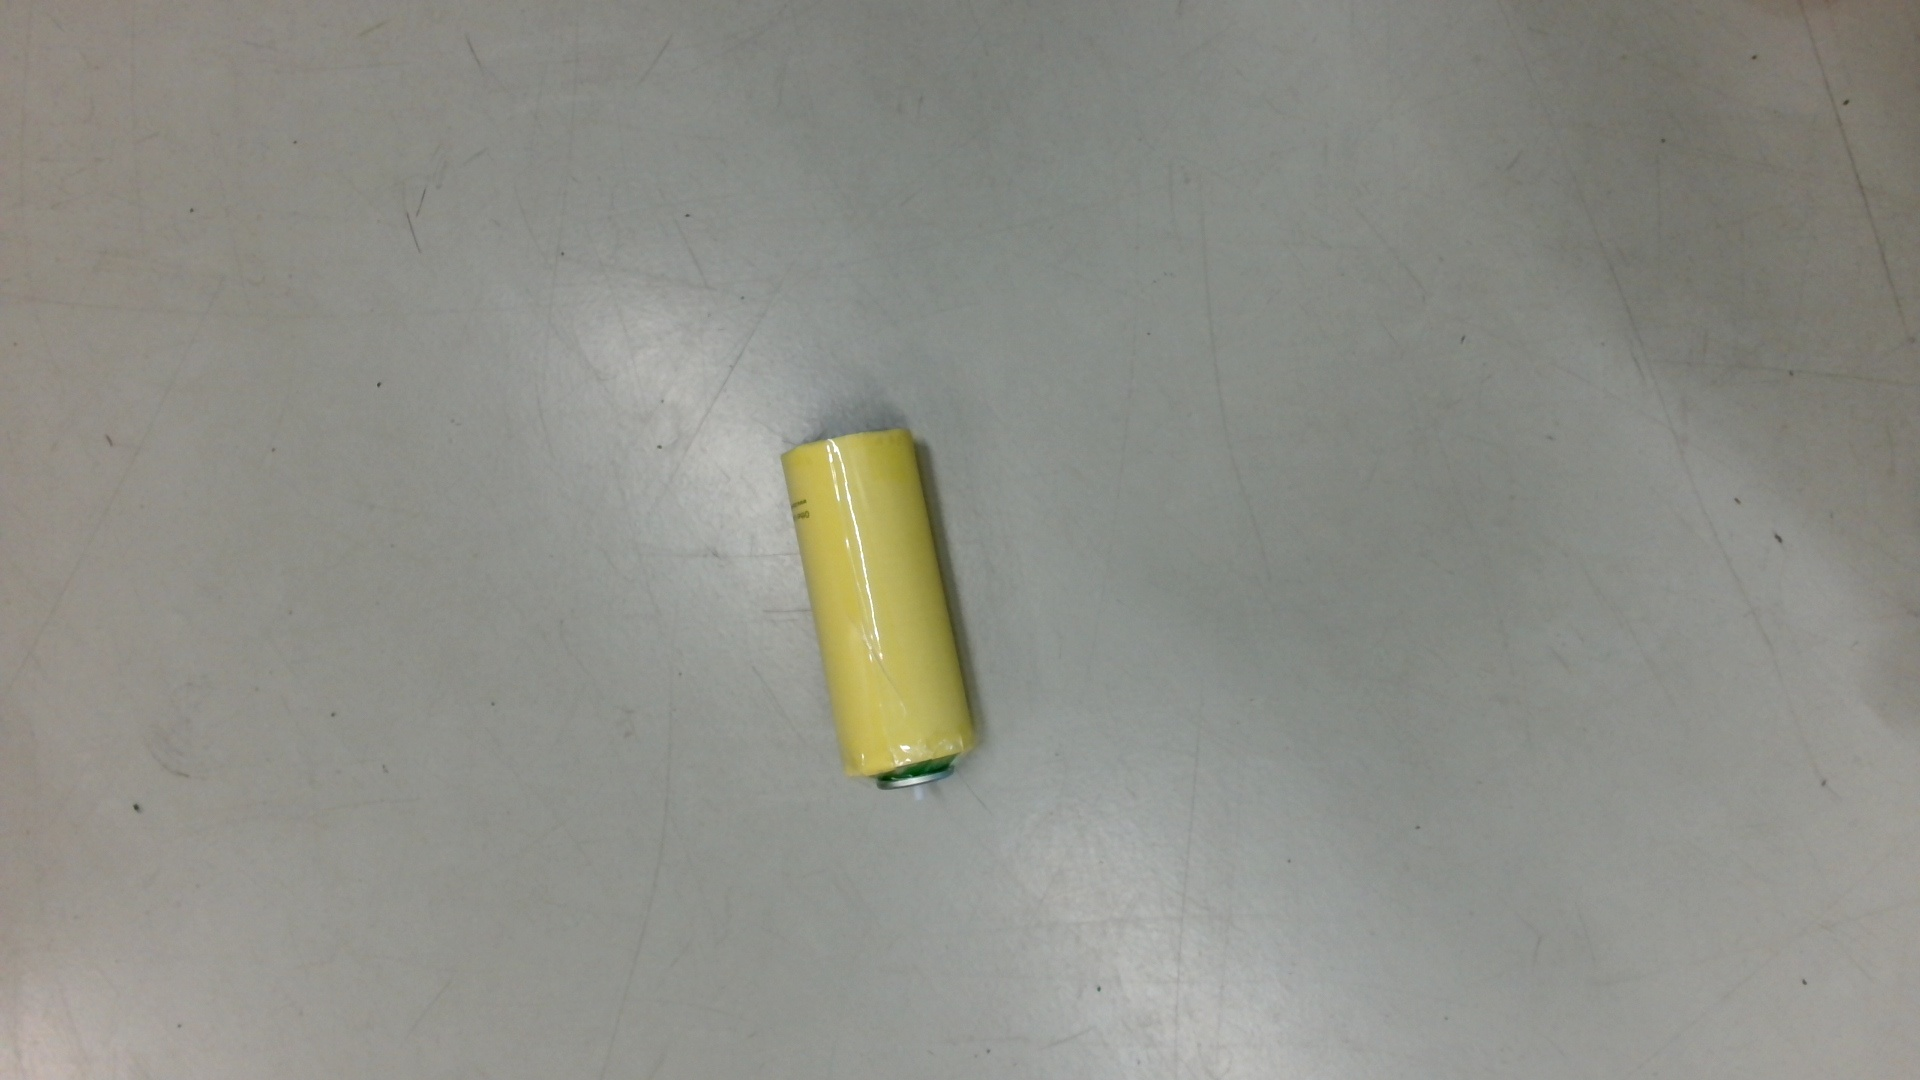Cylinder: (770, 419, 1000, 811)
